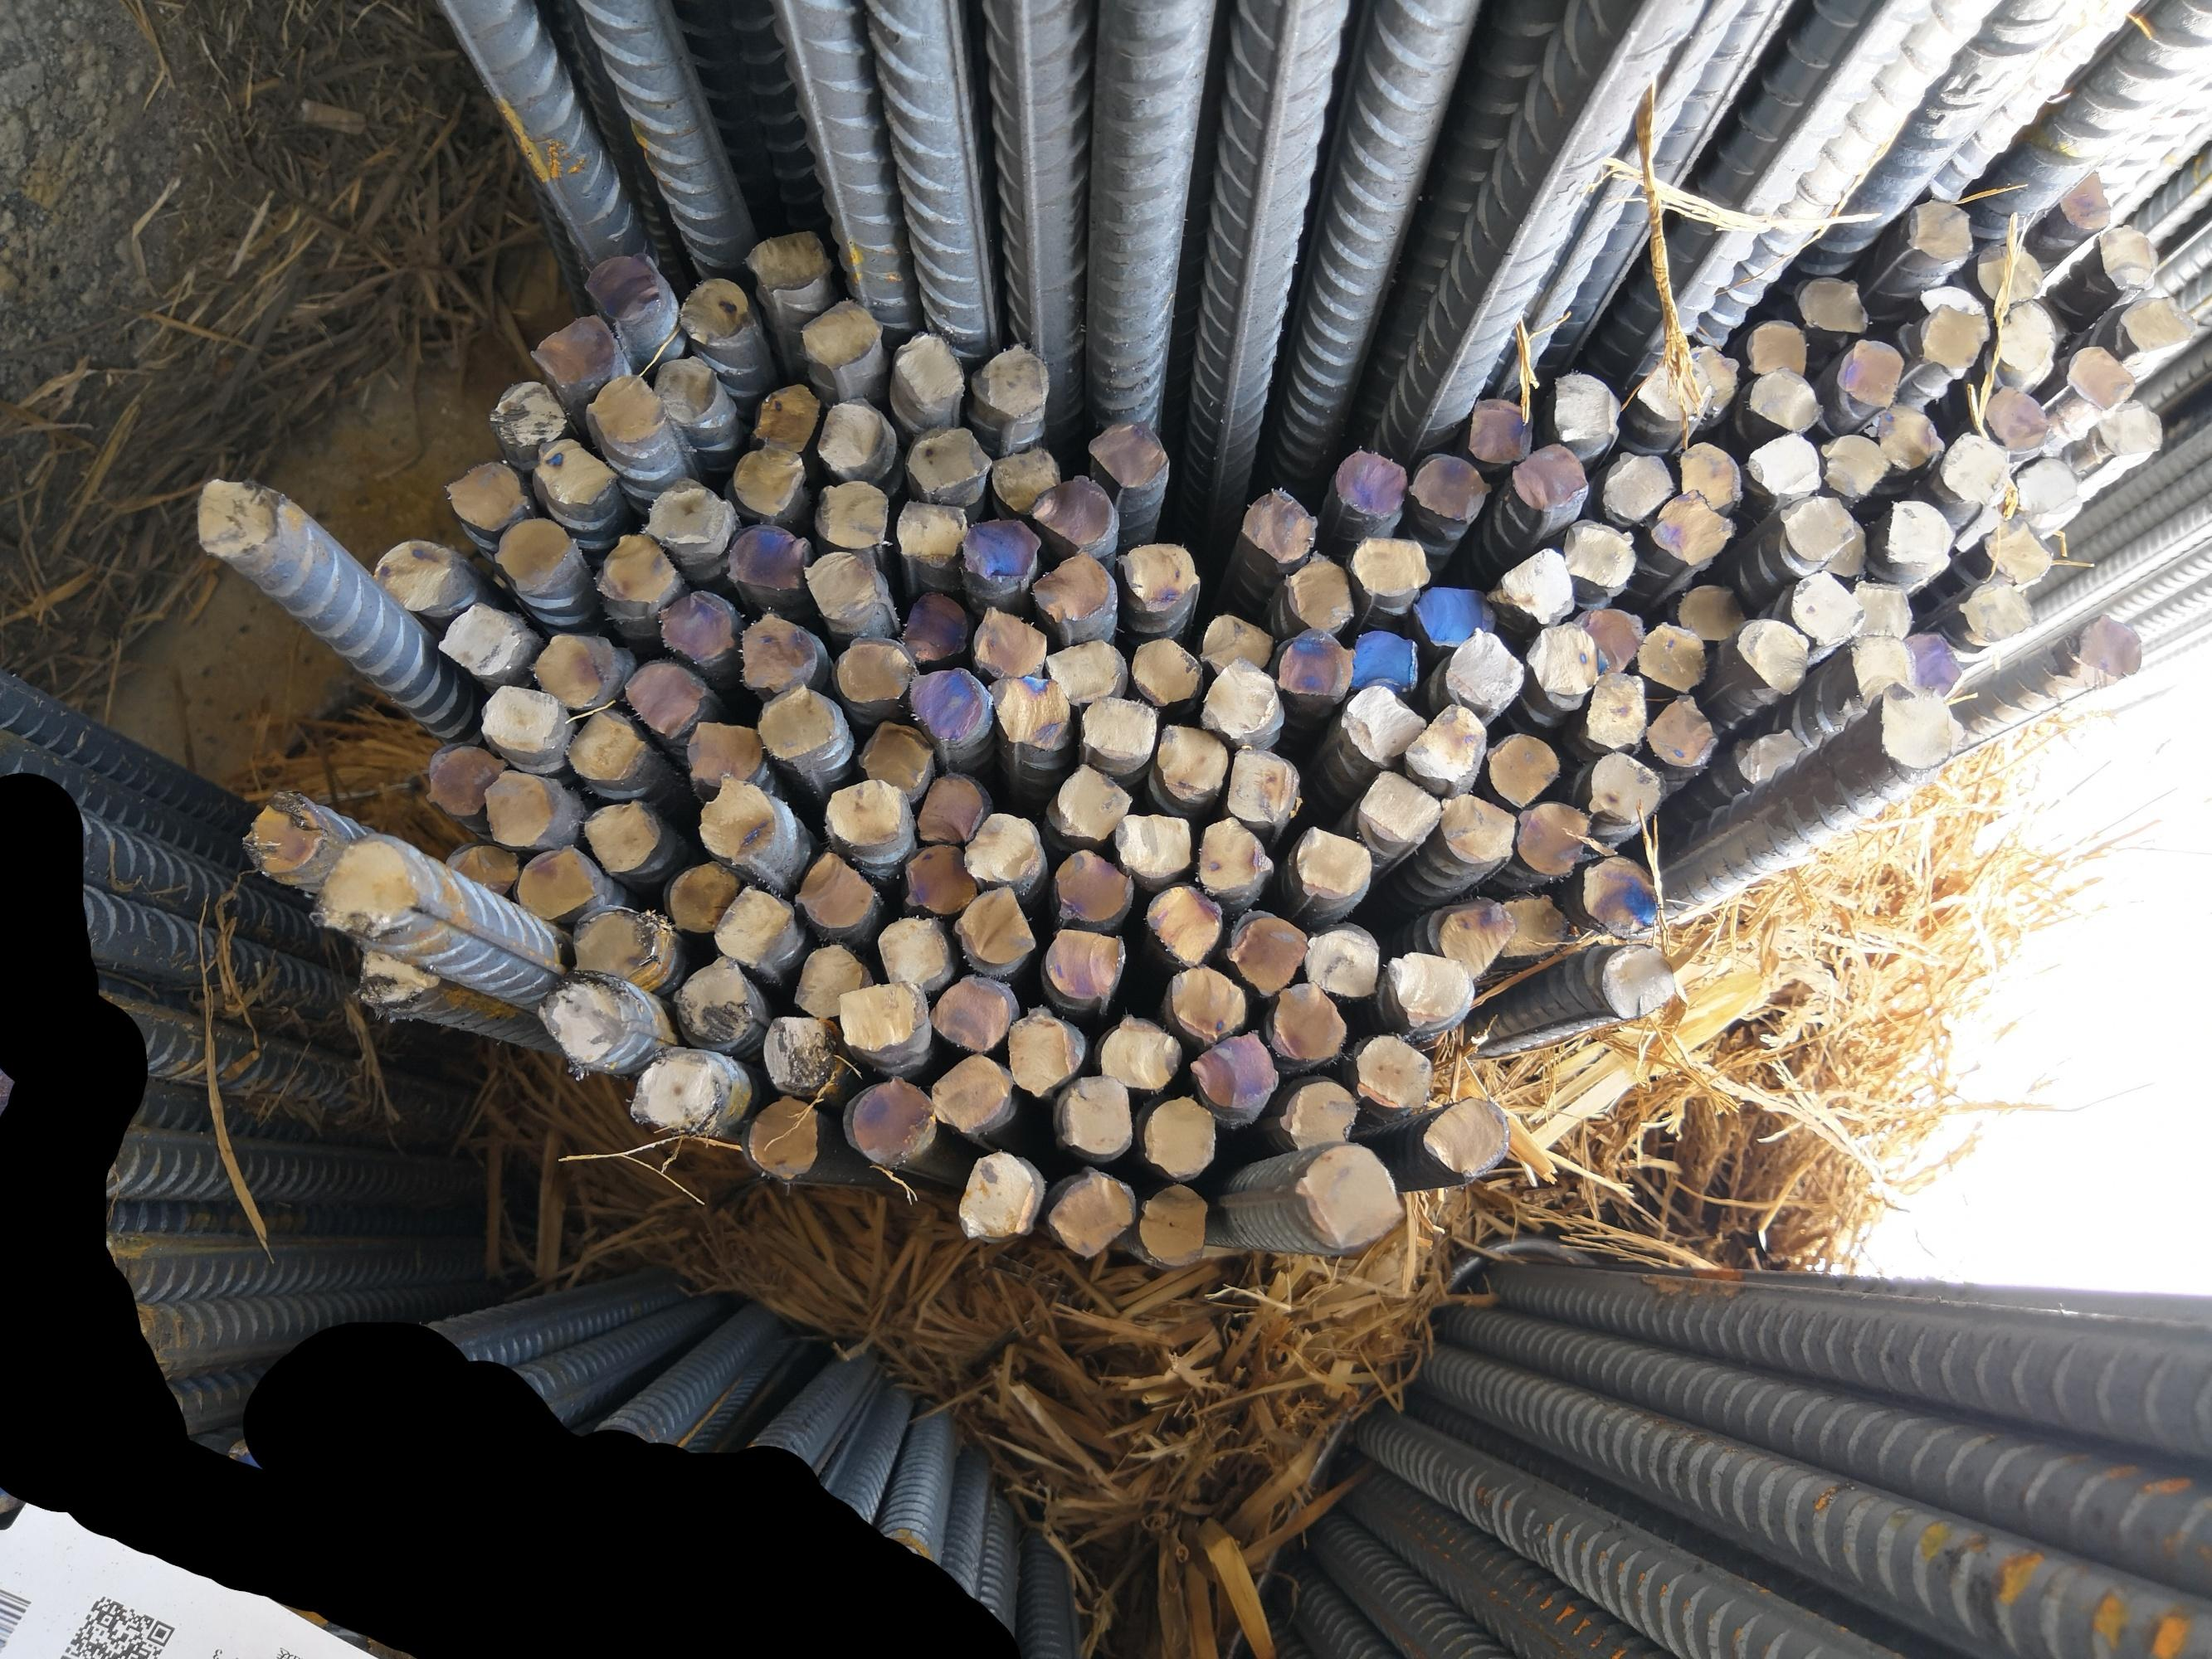bar: (307, 829, 418, 936), (1292, 1141, 1403, 1248), (537, 969, 631, 1073), (192, 472, 284, 572), (847, 1075, 938, 1171), (1189, 1028, 1279, 1119), (1046, 1168, 1135, 1260), (629, 1047, 723, 1134), (666, 955, 753, 1047), (242, 788, 329, 878), (1339, 681, 1429, 767), (955, 1147, 1037, 1241), (793, 845, 880, 931), (1422, 1094, 1510, 1180), (1236, 484, 1323, 570), (619, 659, 708, 742), (711, 878, 791, 971), (743, 1089, 821, 1183), (434, 598, 519, 681), (1403, 699, 1487, 784), (1225, 910, 1307, 997), (1651, 486, 1738, 568), (697, 774, 776, 864), (833, 979, 926, 1056), (1382, 950, 1475, 1026), (929, 971, 1013, 1054), (1578, 854, 1663, 936), (1492, 544, 1579, 624), (368, 533, 458, 610), (567, 903, 657, 979), (528, 310, 619, 387), (1075, 692, 1157, 775), (953, 884, 1037, 965), (424, 741, 509, 821), (985, 671, 1070, 751), (1042, 925, 1128, 1006), (1288, 823, 1374, 903), (1084, 415, 1171, 493), (1140, 1096, 1218, 1183), (1447, 622, 1525, 709), (929, 1053, 1011, 1134), (476, 681, 561, 760), (591, 528, 676, 606), (1030, 471, 1116, 549), (1145, 882, 1224, 967), (1433, 901, 1518, 979), (350, 941, 443, 1012), (514, 840, 596, 920), (903, 662, 983, 744), (1053, 843, 1133, 925), (1192, 814, 1272, 896), (1199, 657, 1279, 739), (1006, 1004, 1075, 1098), (1098, 1014, 1182, 1093), (1356, 769, 1440, 847), (563, 708, 648, 784), (1055, 1072, 1131, 1157), (793, 295, 880, 369), (1048, 762, 1135, 836), (821, 775, 910, 849), (739, 225, 831, 295), (739, 612, 819, 692), (1598, 943, 1679, 1023), (530, 627, 608, 709), (579, 796, 661, 875), (753, 683, 835, 762), (1435, 789, 1517, 868), (762, 1012, 838, 1096), (971, 340, 1055, 416), (1272, 624, 1356, 701), (1881, 683, 1956, 769), (1137, 1182, 1210, 1269), (638, 474, 727, 545), (1597, 446, 1677, 525), (659, 859, 741, 936), (584, 369, 666, 446), (852, 716, 934, 793), (1168, 960, 1250, 1037), (1269, 979, 1346, 1061), (481, 767, 556, 850), (1116, 538, 1199, 613), (1030, 549, 1116, 622), (1525, 622, 1611, 695), (906, 422, 994, 493), (580, 247, 662, 322), (1354, 1035, 1436, 1110), (1736, 612, 1809, 695), (532, 436, 617, 507), (493, 516, 572, 592), (1558, 518, 1637, 594), (1278, 1073, 1358, 1148), (1281, 549, 1356, 629), (1642, 688, 1717, 769), (654, 587, 736, 660), (485, 376, 567, 450), (887, 328, 964, 404), (899, 842, 978, 917), (962, 810, 1041, 885), (1633, 617, 1712, 692), (800, 549, 880, 622), (446, 458, 528, 530), (727, 521, 809, 592), (1110, 807, 1192, 878), (1412, 582, 1499, 648), (791, 943, 868, 1018), (1515, 800, 1590, 877), (1747, 429, 1823, 504), (1787, 566, 1862, 643), (1548, 368, 1621, 446), (959, 514, 1041, 584), (1405, 453, 1489, 521), (730, 443, 805, 518), (812, 397, 887, 472), (1154, 721, 1229, 796), (1485, 730, 1560, 805), (1781, 490, 1856, 565), (812, 479, 891, 551), (1583, 749, 1663, 819), (680, 720, 762, 788), (1347, 532, 1431, 598), (1128, 633, 1201, 708), (915, 770, 987, 847), (873, 915, 950, 986), (1227, 746, 1299, 823), (987, 441, 1065, 511), (1302, 927, 1381, 997), (1511, 443, 1590, 512), (1917, 300, 1987, 378), (1956, 572, 2036, 640), (676, 274, 751, 345), (1872, 401, 1949, 471), (833, 636, 913, 702), (1042, 638, 1124, 702), (1586, 667, 1651, 749), (894, 498, 967, 570), (1881, 498, 1952, 572), (1980, 382, 2053, 453), (1937, 429, 2008, 502), (973, 605, 1048, 674), (1637, 352, 1712, 422), (1332, 448, 1408, 516), (1980, 514, 2052, 586), (1818, 427, 1888, 500), (2062, 342, 2135, 411), (899, 587, 967, 662), (2067, 612, 2142, 680), (1492, 892, 1569, 958), (751, 380, 823, 450), (1466, 392, 1536, 464), (1347, 627, 1421, 695), (1747, 364, 1822, 430), (1196, 606, 1272, 671), (1992, 298, 2057, 375), (1834, 336, 1903, 406), (652, 350, 720, 422), (1851, 627, 1917, 701), (441, 838, 519, 899), (1576, 603, 1645, 671), (1903, 624, 1966, 699), (1675, 436, 1741, 505), (1903, 195, 1975, 260), (1795, 275, 1872, 335), (1680, 342, 1741, 415), (2093, 221, 2154, 295), (1734, 727, 1809, 786), (2116, 296, 2198, 350), (1743, 314, 1809, 380), (2097, 397, 2165, 462), (1677, 580, 1748, 641), (1916, 279, 1991, 335), (2017, 457, 2080, 521), (1849, 573, 1912, 638), (1977, 240, 2039, 301), (2052, 171, 2109, 232), (1823, 516, 1874, 584)
